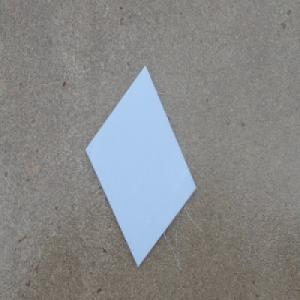PaintChip: (84, 62, 197, 270)
